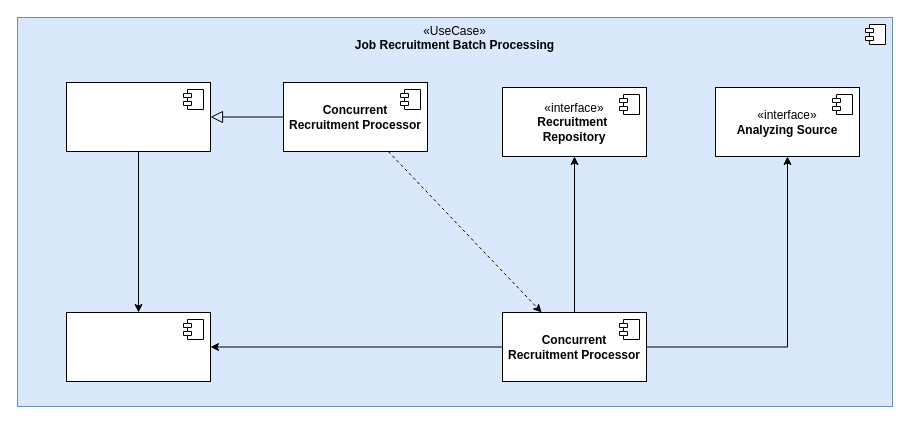
The diagram is 910 pixels wide and 424 high, and some of its shapes have lost their labels. Here are the shapes that lost their labels. From the top down, the centre of each, then its label:
At pixel 138 117: "«interface» Recruitment Processor Factory".
At pixel 138 347: "«interface» Recruitment Processor".
